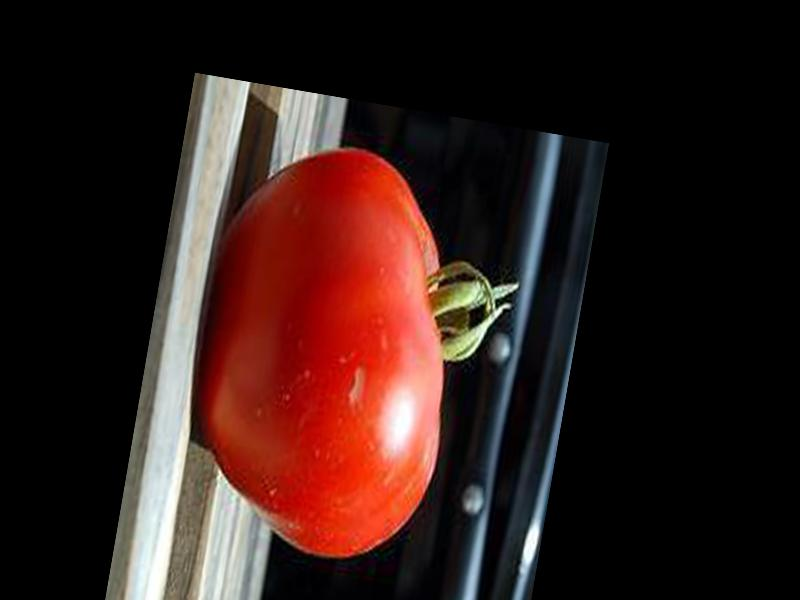Tomato: (174, 131, 534, 579)
